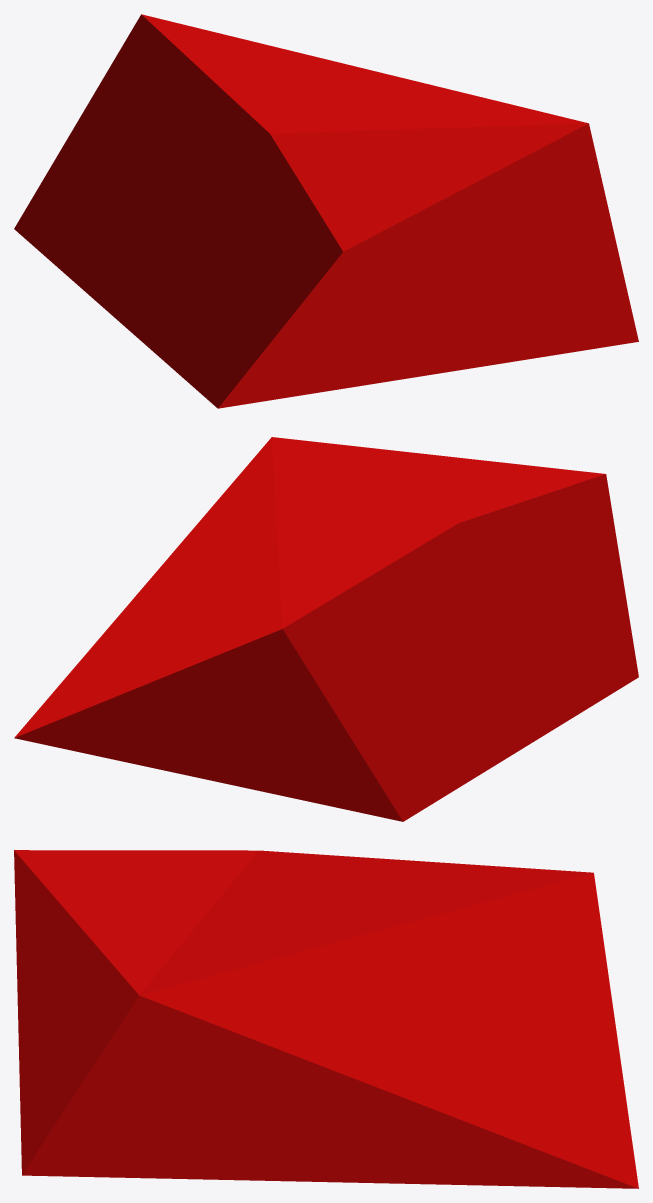
3 renders of one model, top to bottom at view 1: azimuth 30°, elevation 25°; view 2: azimuth 150°, elevation 25°; view 3: azimuth 270°, elevation 25°, orthographic. The views are drawn at different scales.
Visible parts, largest first — view 1: Mesh; view 2: Mesh; view 3: Mesh.
Boxes of the visible parts, <box> form: Mesh: <box>14,14,638,408</box>; Mesh: <box>14,437,638,821</box>; Mesh: <box>14,850,638,1188</box>.
Size of the model in its own units: 0.7289 by 0.3105 by 0.8818.
